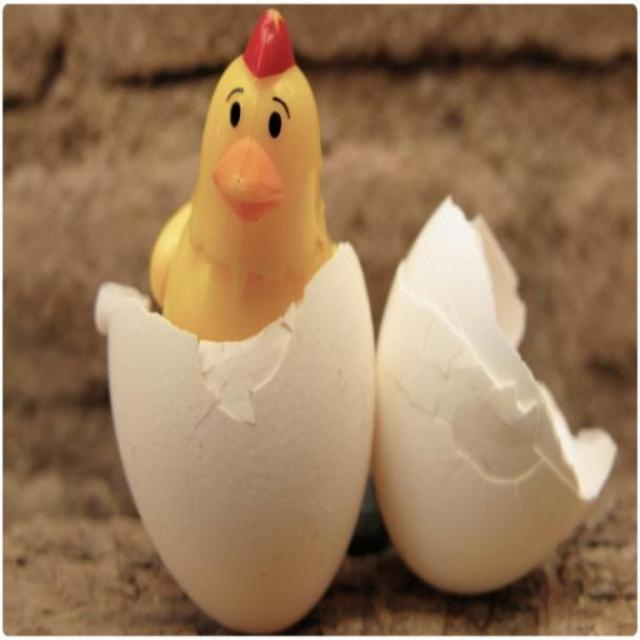Chicken: (142, 3, 337, 339)
